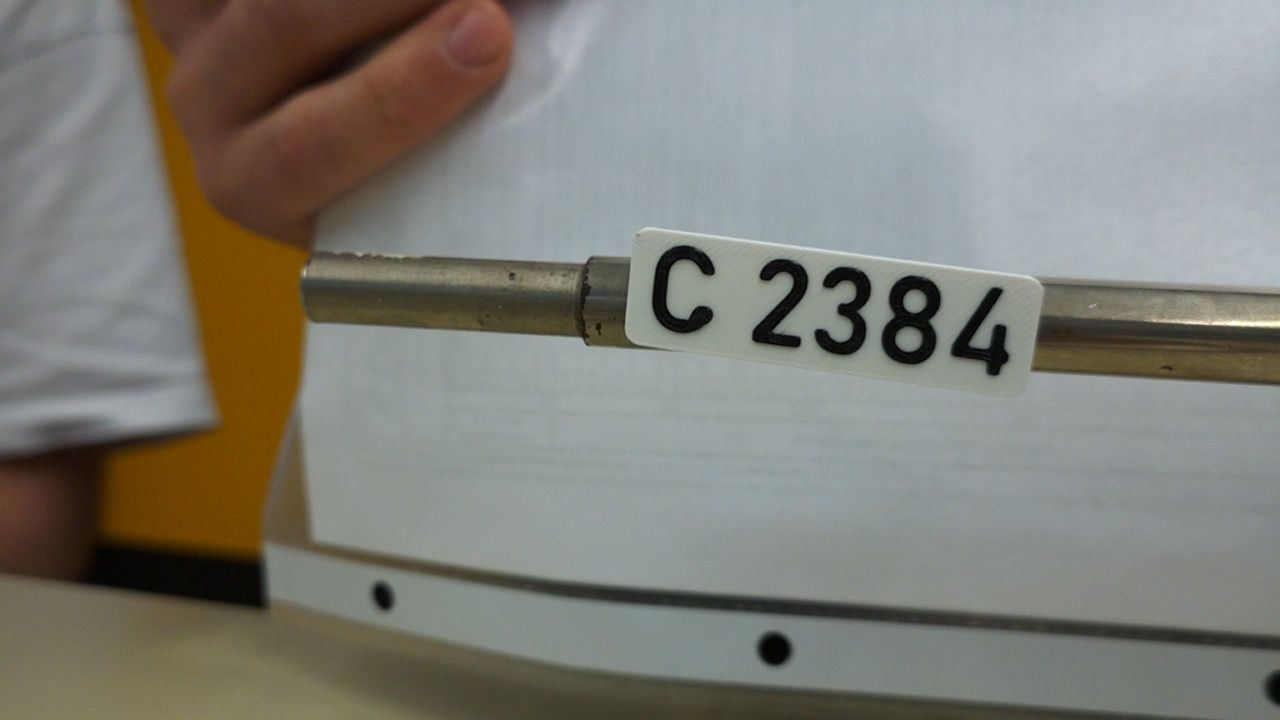license_plate: (623, 224, 1046, 401)
